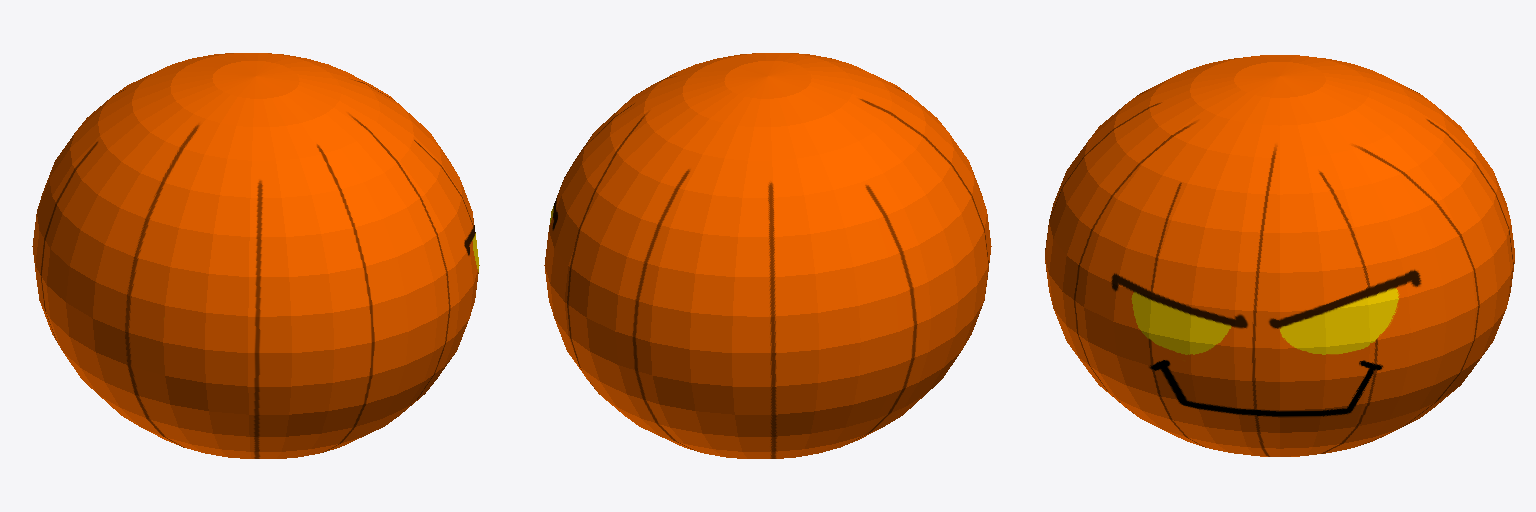
The picture shows the model from 3 angles: view 1: azimuth 30°, elevation 25°; view 2: azimuth 150°, elevation 25°; view 3: azimuth 270°, elevation 25°; orthographic projection.
Parts seen in each view (by area): view 1: Sphere; view 2: Sphere; view 3: Sphere.
Boxes of the visible parts, x1,y1,x2,y2 form: Sphere: [32, 53, 479, 458]; Sphere: [544, 53, 991, 458]; Sphere: [1045, 55, 1514, 456].
Size of the model in its own units: 2.03 by 1.83 by 2.17.
1 materials, 1 textured.